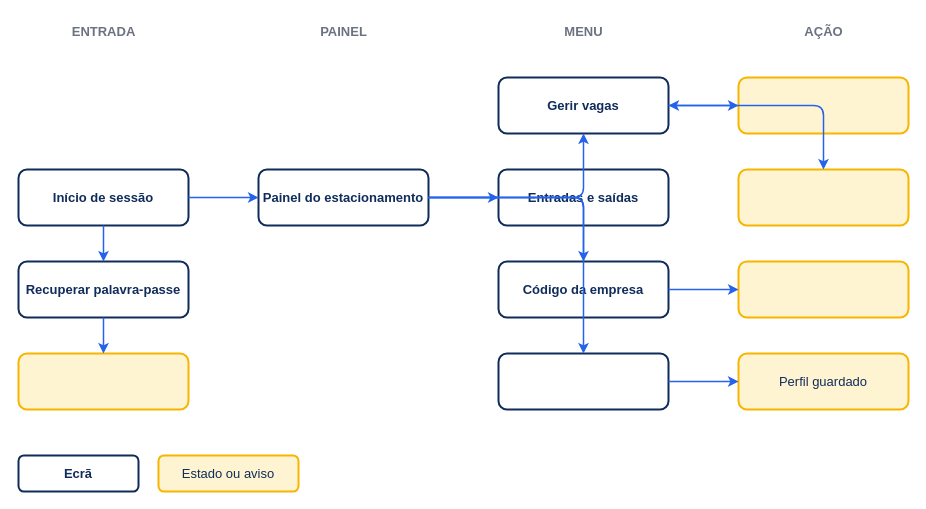
The diagram is 926 pixels wide and 509 high, and some of its shapes have lost their labels. Each missing label, with the centre of its shape:
Código guardado: the point at 823,289
Editar perfil: the point at 583,381
Link enviado: the point at 103,381
Vaga ocupada: the point at 823,197
Vagas guardadas: the point at 823,105
